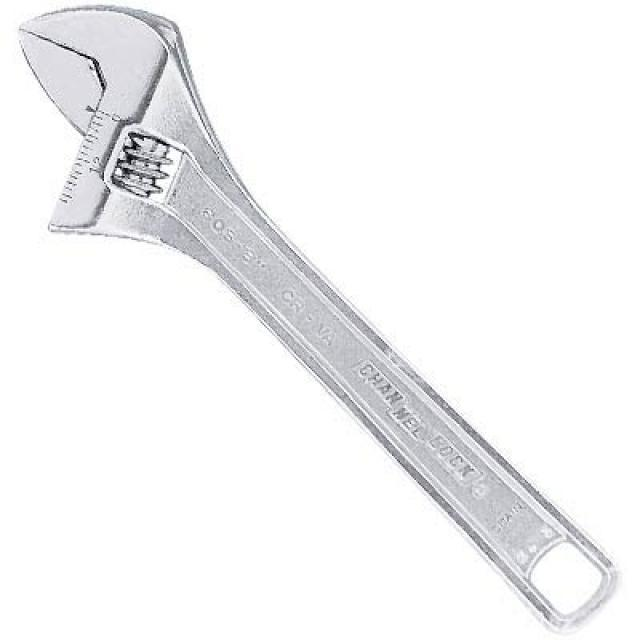wrench: (9, 0, 625, 635)
